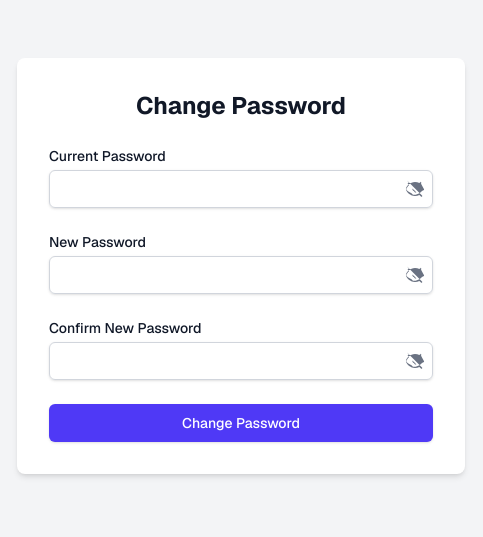
Scenario: PasswordPage › should show validation errors for empty fields
Click the button "Change Password": (241, 423) top-left (49, 404), bottom-right (433, 442)
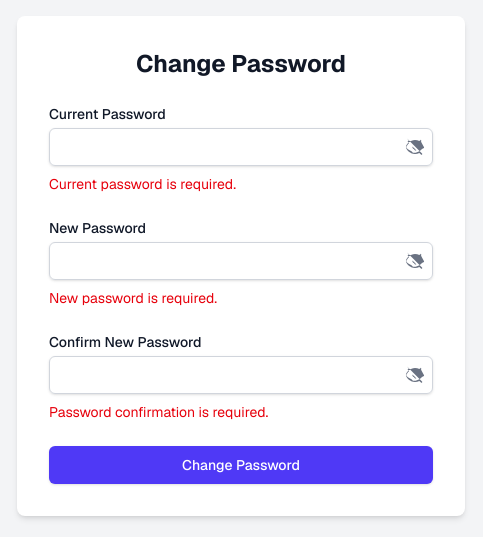
Now the text "Current password is required." is shown, box top-left (49, 175), bottom-right (236, 193)
Now the text "New password is required." is shown, box top-left (49, 289), bottom-right (217, 307)
Now the text "Password confirmation is required." is shown, box top-left (49, 403), bottom-right (268, 421)
